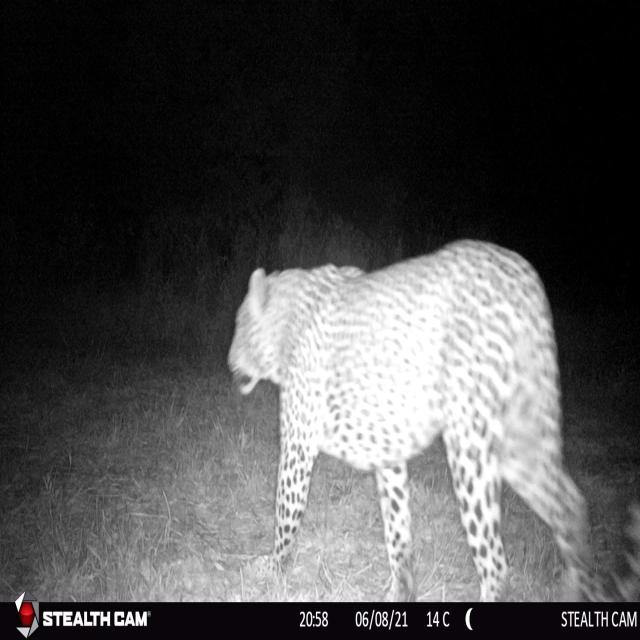Leopard: (215, 233, 602, 619)
